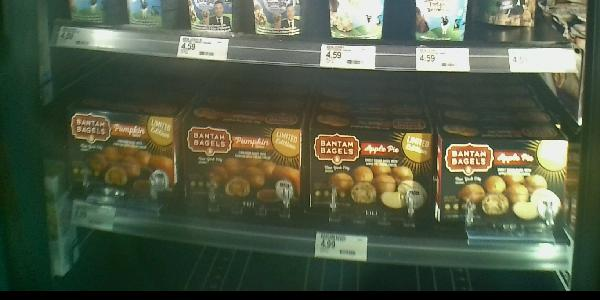icecream: (439, 132, 573, 237), (306, 124, 439, 229), (180, 113, 306, 223), (64, 103, 178, 202)
